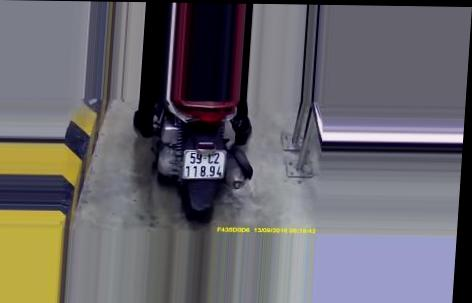License_Plate: (179, 147, 232, 183)
